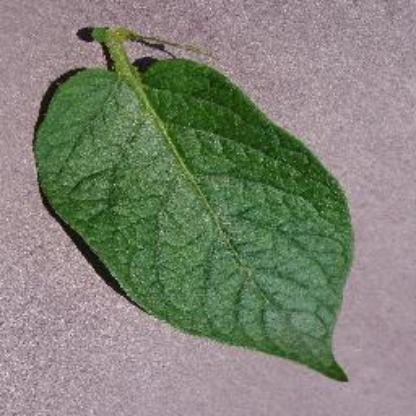Healthy-plant: (30, 20, 366, 392)
